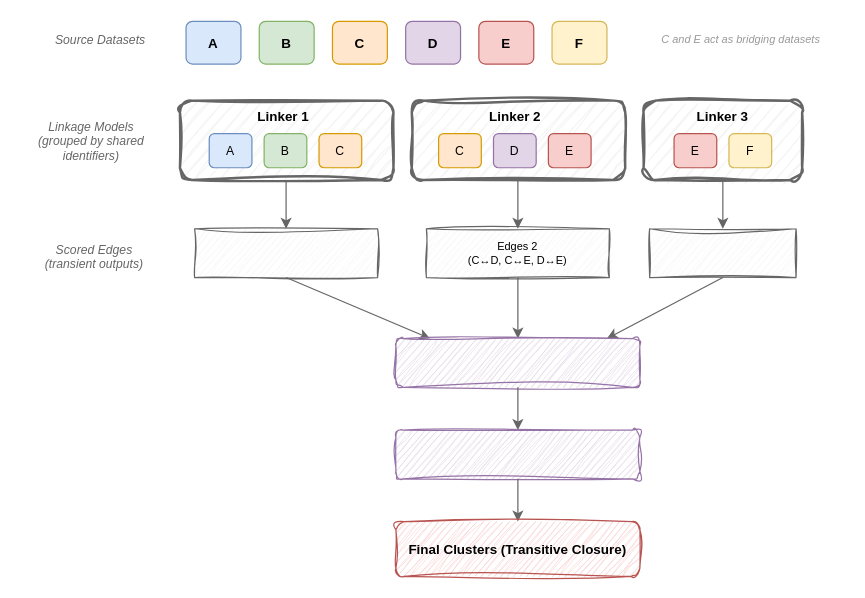
This 865x598 diagram has some shape labels left out. Each missing label, with the centre of its shape:
"Cluster at Threshold(s)" goes at point (517, 454).
"Combined Edges (UNION ALL)" goes at point (517, 362).
"Edges 1 (A↔B, A↔C, B↔C)" goes at point (285, 253).
"Edges 3 (E↔F)" goes at point (722, 253).
